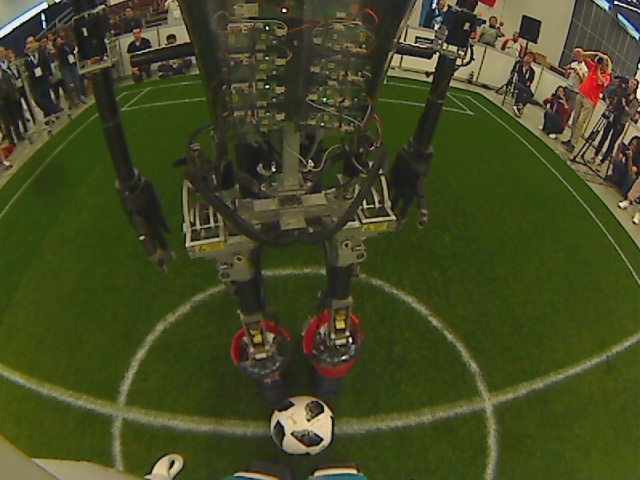ball: (265, 393, 339, 462)
